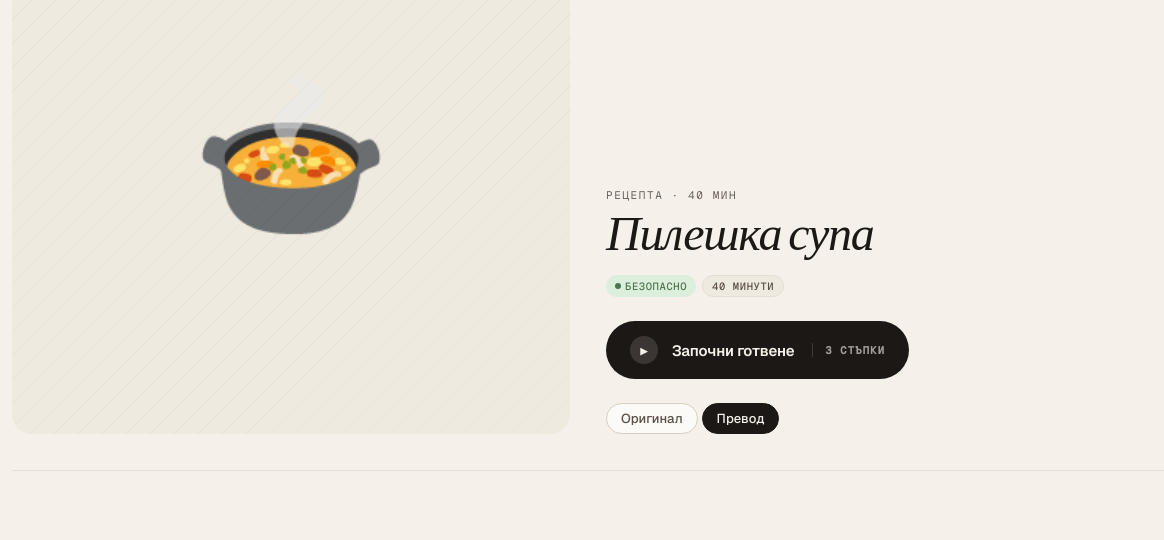
Test: RecipeDetailView – translation toggle › displays original ingredients after switching back to Оригинал
Click the button "Превод". click: (741, 418)
box: [702,403,780,434]
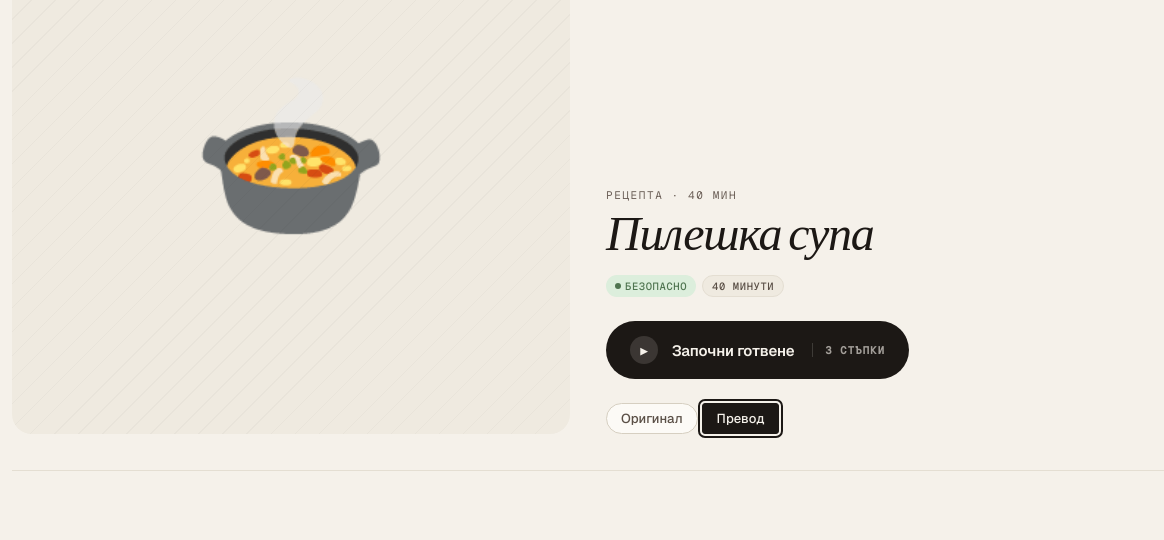
Click the button "Оригинал". click: (652, 418)
box: [606,403,698,434]
(page scrolled)
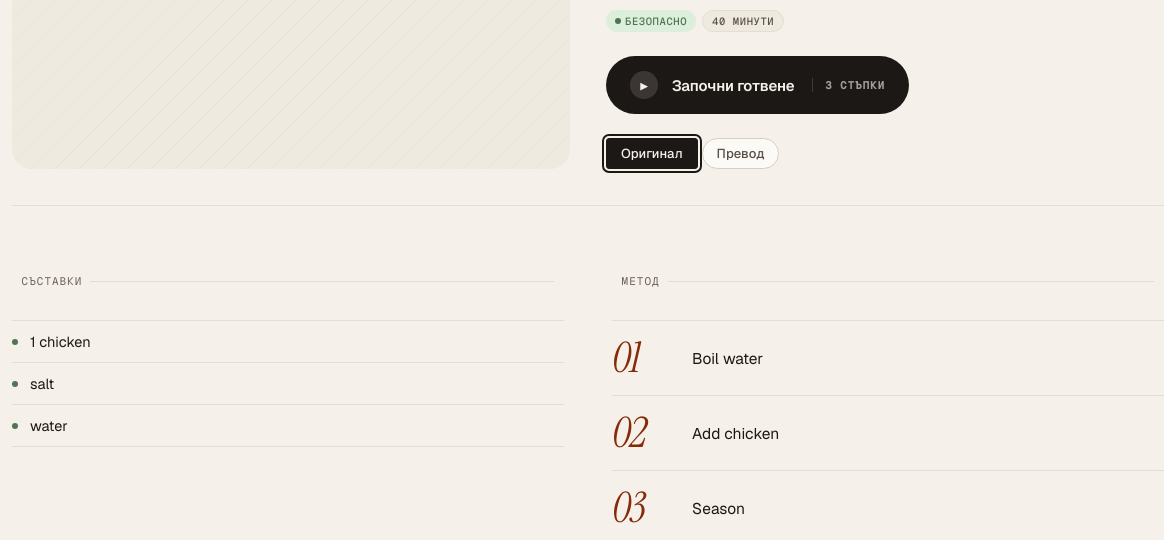
Expected: the text "1 chicken" is shown, [30,332,91,351]
